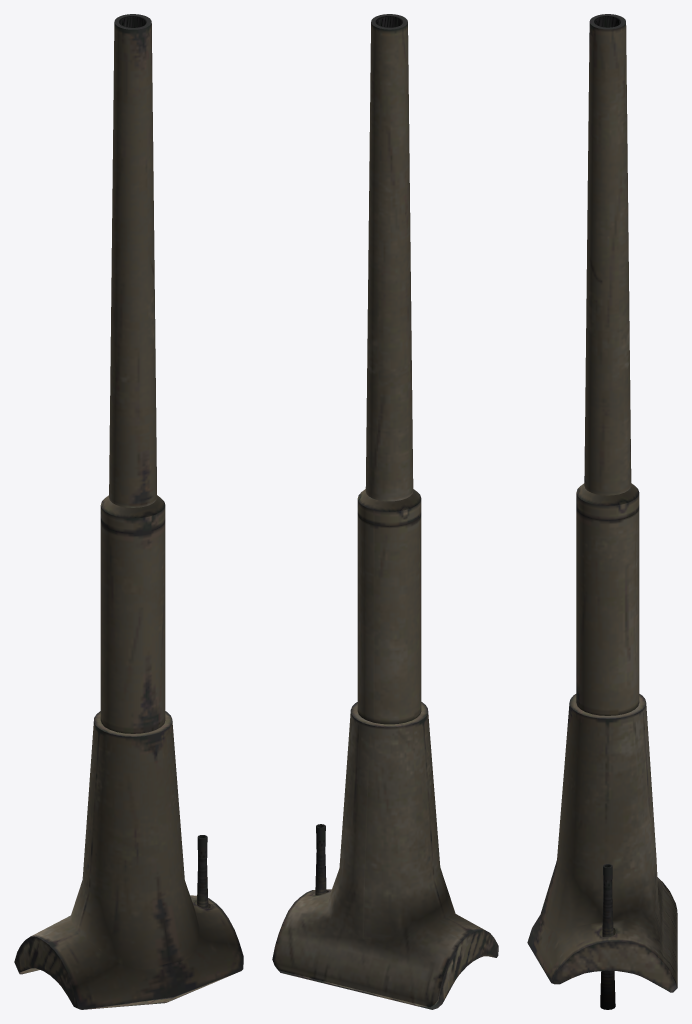
File: Gun_06.glb
3 views of the same model, side by side, from view 1: azimuth 30°, elevation 25°; view 2: azimuth 150°, elevation 25°; view 3: azimuth 270°, elevation 25° (orthographic). The views are drawn at different scales.
Parts seen in each view (by area): view 1: set_0_group_0; view 2: set_0_group_0; view 3: set_0_group_0.
Boxes of the visible parts, box(x1,y1,x2,y2) form: set_0_group_0: box(14, 14, 243, 1009); set_0_group_0: box(272, 14, 498, 1009); set_0_group_0: box(527, 14, 677, 1009).
Bounding box in the file's own units: 0.7796 × 4.33 × 0.62.
1 material, 1 textured.
